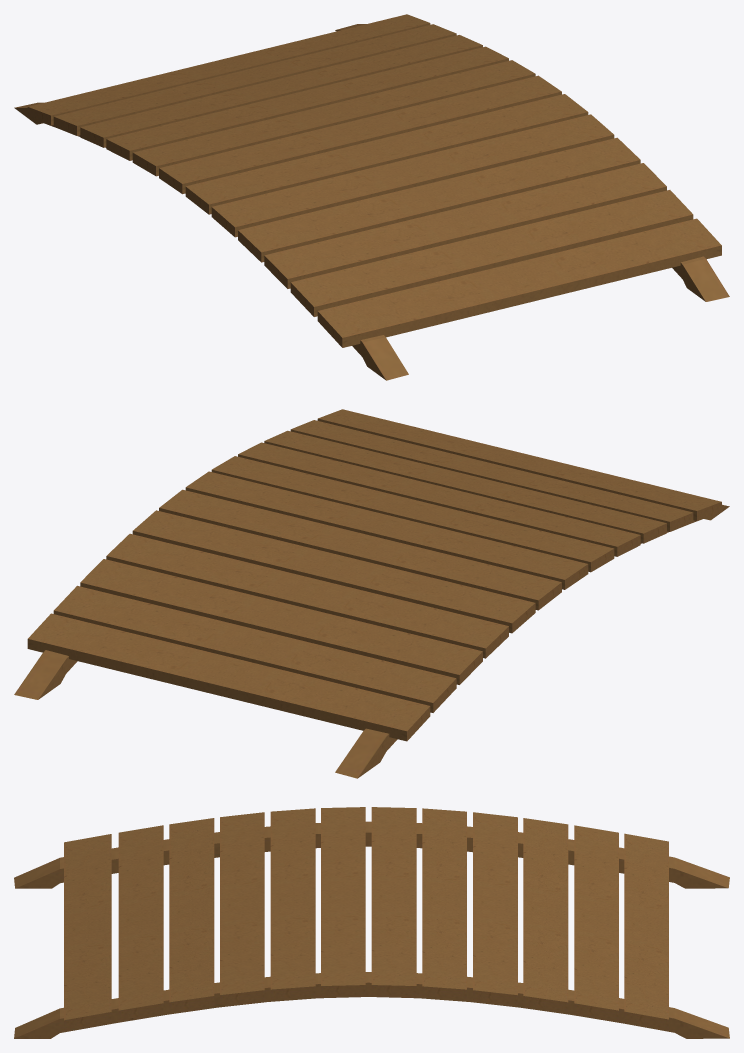
Rendered from part_bridge.fbx.
The picture shows the model from 3 angles, top to bottom: view 1: azimuth 30°, elevation 25°; view 2: azimuth 150°, elevation 25°; view 3: azimuth 270°, elevation 25°; orthographic projection. The views are drawn at different scales.
Visible parts, largest first — view 1: Cube.051; view 2: Cube.051; view 3: Cube.051.
Part boxes in pixels (x1,y1,x2,y2): Cube.051: (14,14,729,380); Cube.051: (14,409,729,778); Cube.051: (14,807,729,1038).
Size of the model in its own units: 86.69 by 14.16 by 147.
Materials: 1 (1 with a texture image).
